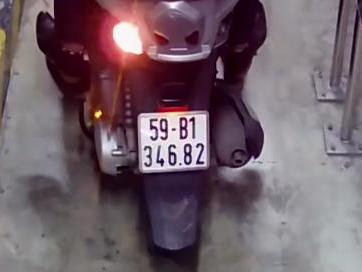num_plate: (137, 111, 210, 172)
